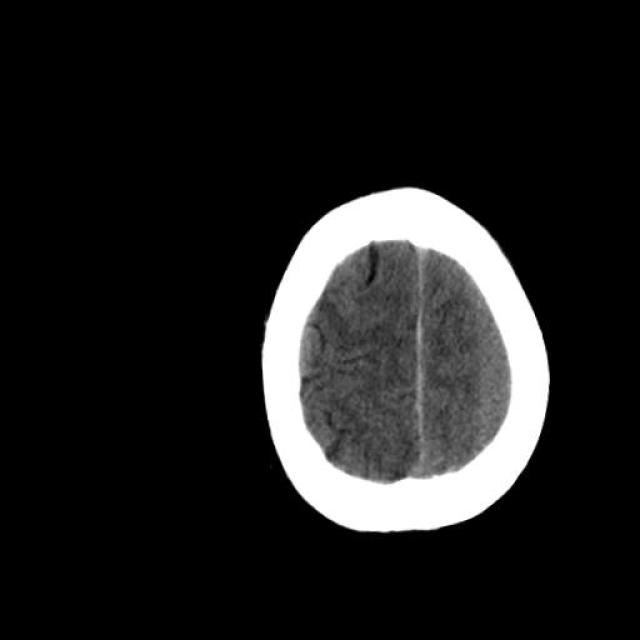Subdural: (388, 294, 442, 445)
